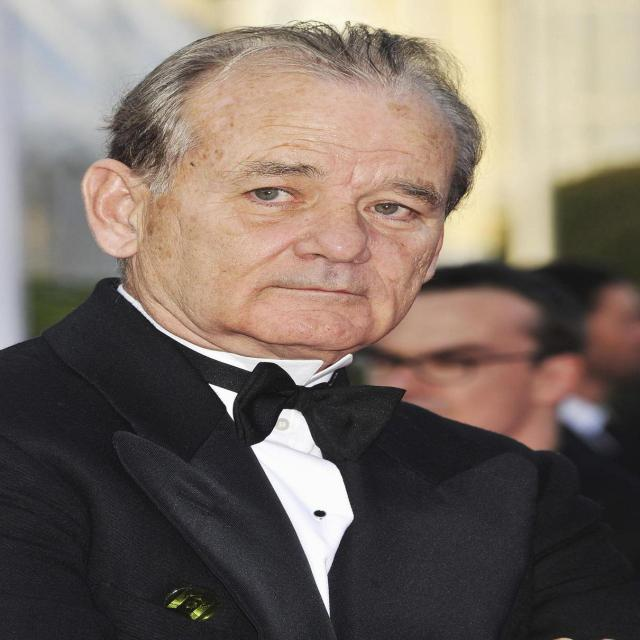no-earmuff: (66, 150, 161, 276)
